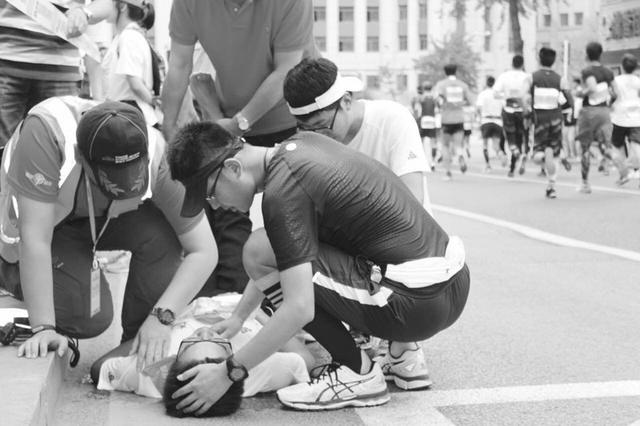10+: (3, 1, 640, 410)
down: (89, 284, 316, 421)
